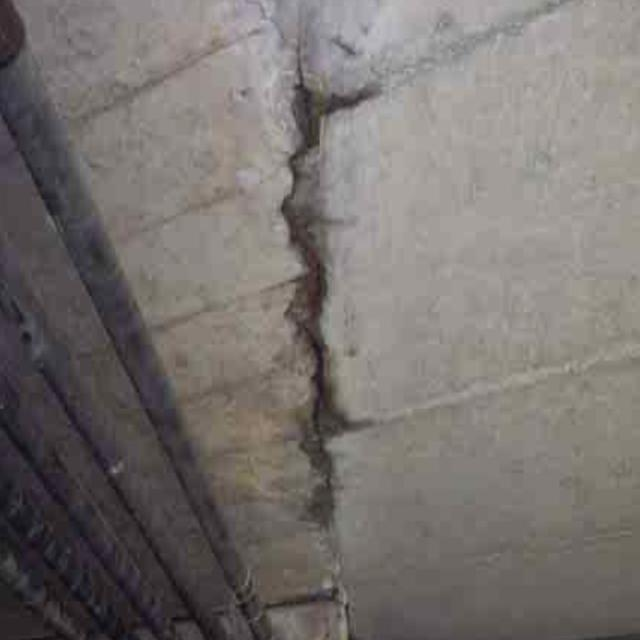crack: (267, 66, 373, 520)
